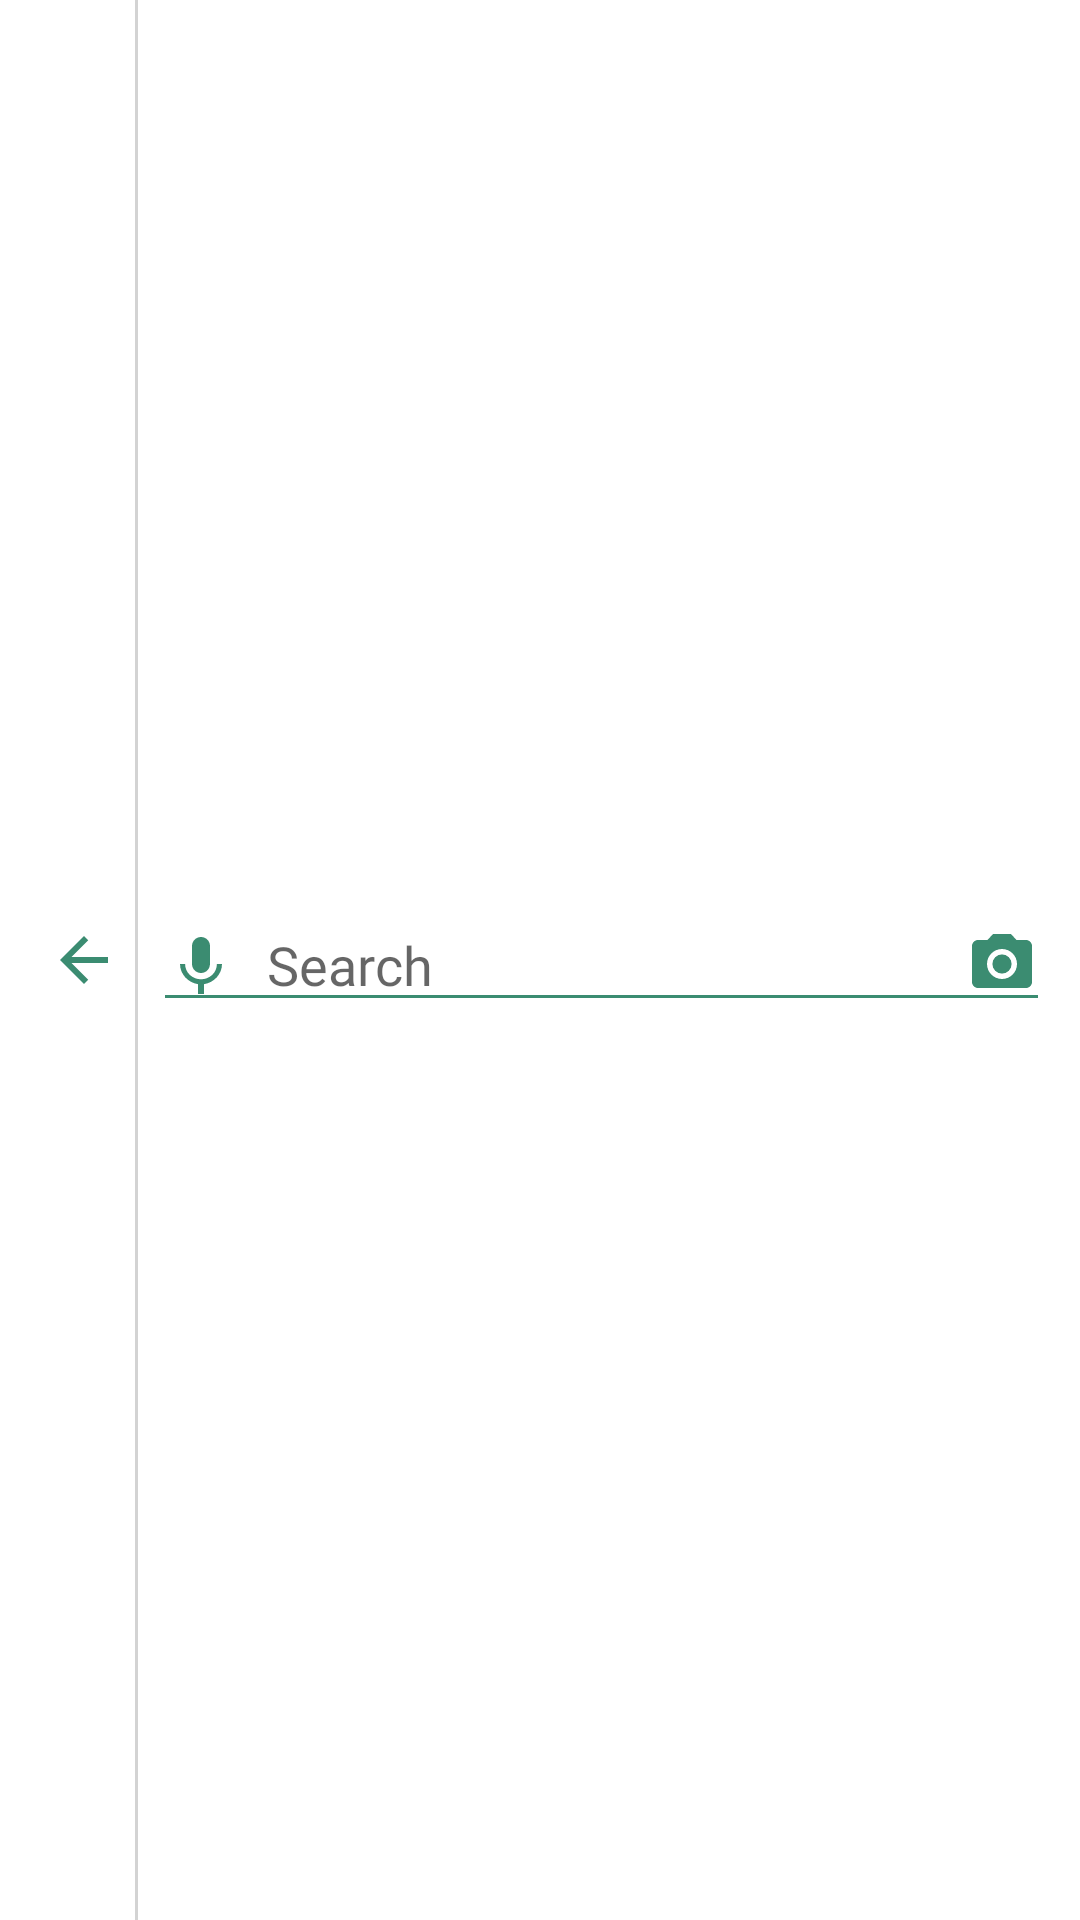

Icons on this 1080px x 1920px Android screen, each with its box as (x1, y1, x2, y2):
back: (60, 936, 108, 984)
